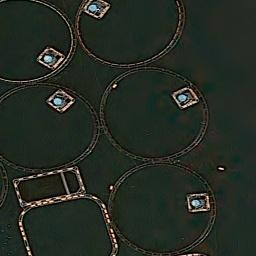circle: (105, 158, 219, 256), (97, 66, 211, 162), (1, 80, 102, 174), (71, 1, 187, 71), (1, 1, 77, 85), (1, 158, 9, 212)
square_bigger: (17, 191, 122, 256)
